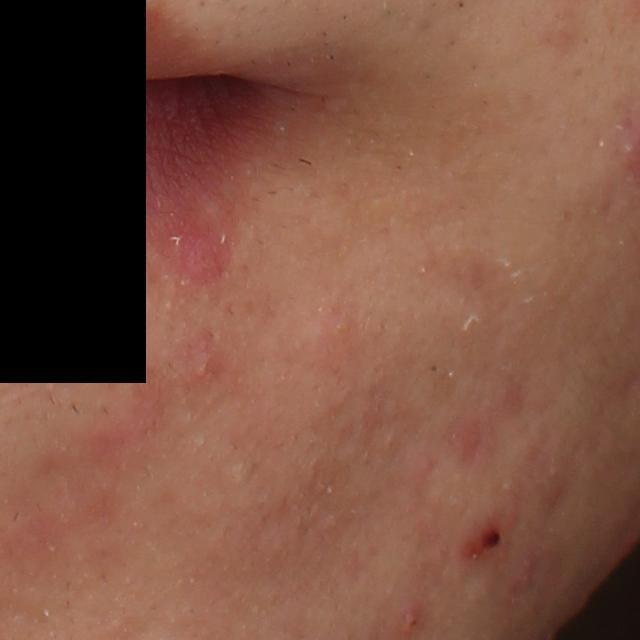papule: (174, 217, 230, 289), (461, 520, 507, 556), (192, 335, 220, 379), (397, 600, 426, 634)
